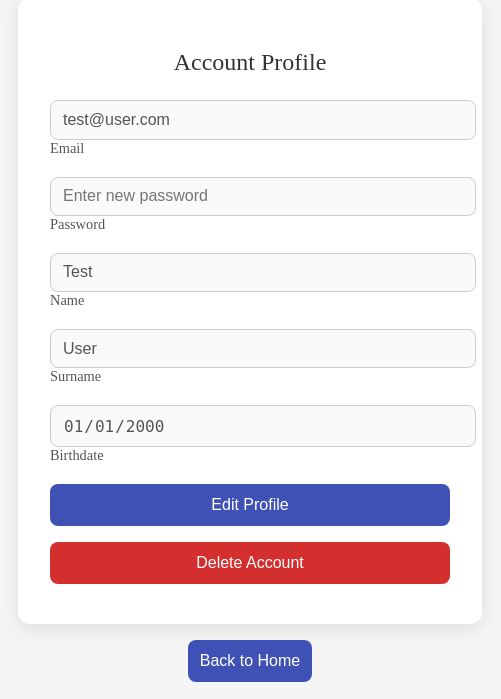
Test: Account.vue › deshabilita los inputs y restaura datos al hacer clic en "Cancel"
The image size is (501, 699).
Click the button "Edit Profile".
click(250, 505)  # box 50,484 -> 450,526
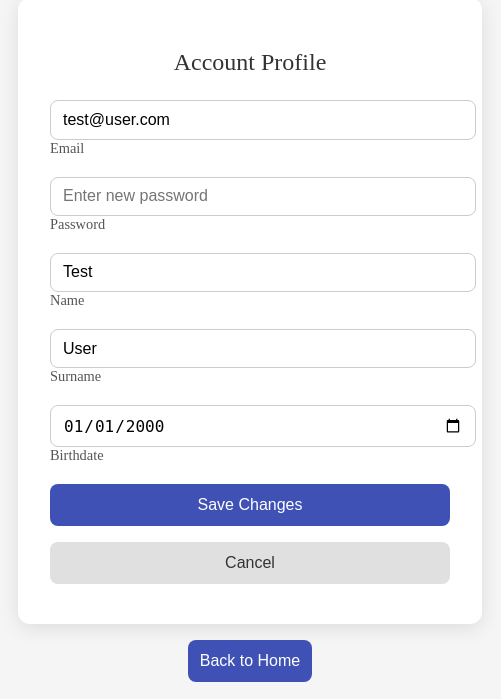
Replace the text in the field labelled "Name" with "Nuevo Nombre" at (263,272), box 50,253 -> 476,292
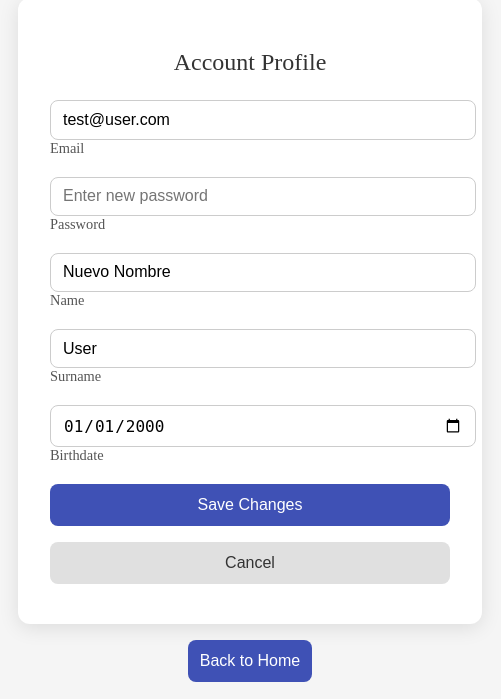
Click the button with class "secondary-btn".
click(250, 563)  # box 50,542 -> 450,584
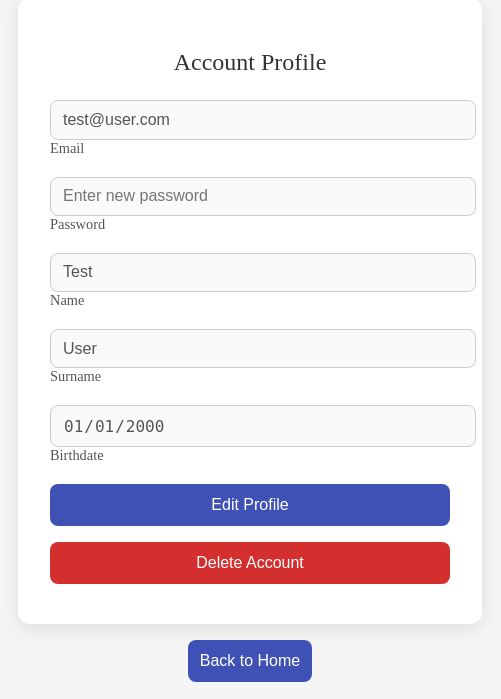
Expected: the field labelled "Name" is disabled, 50,253 -> 476,292
Expected: the field labelled "Name" holds "Test", 50,253 -> 476,292
